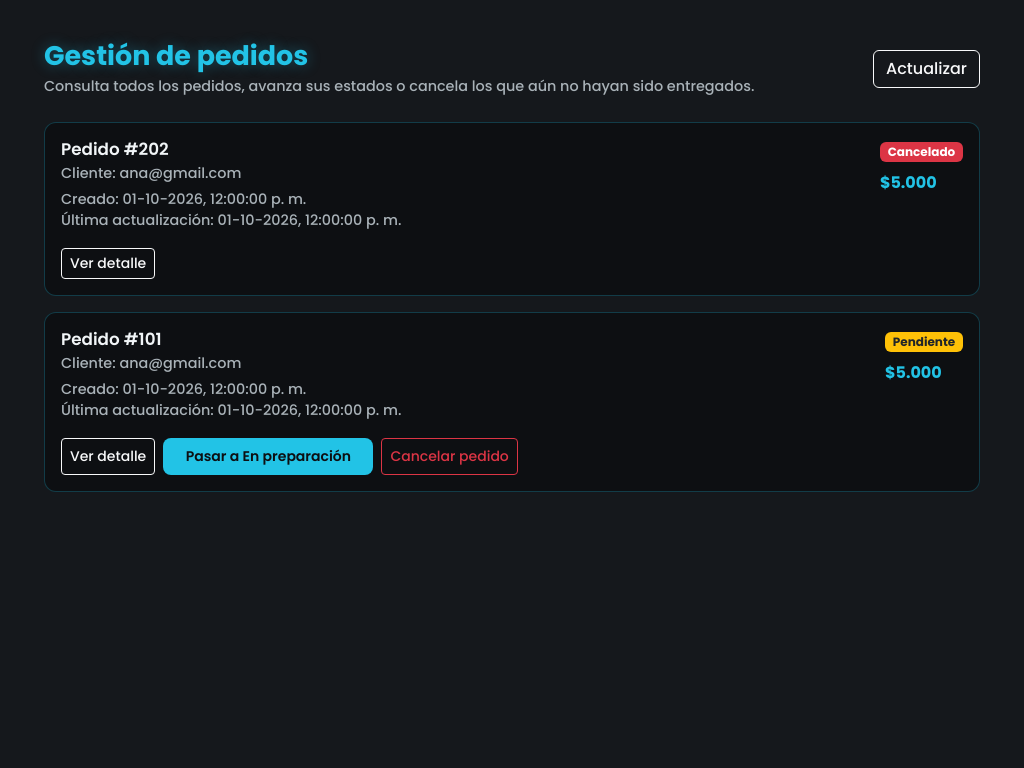
Test: PanelPedidos › ordena los pedidos y permite abrir y ocultar el detalle
The image size is (1024, 768).
Expected: the heading "Pedido #202" is shown, [61,137,169,161]
Expected: the heading "Pedido #101" is shown, [61,327,162,351]
Click the 1st button "Ver detalle".
click(108, 263)  # box [61,248,155,279]
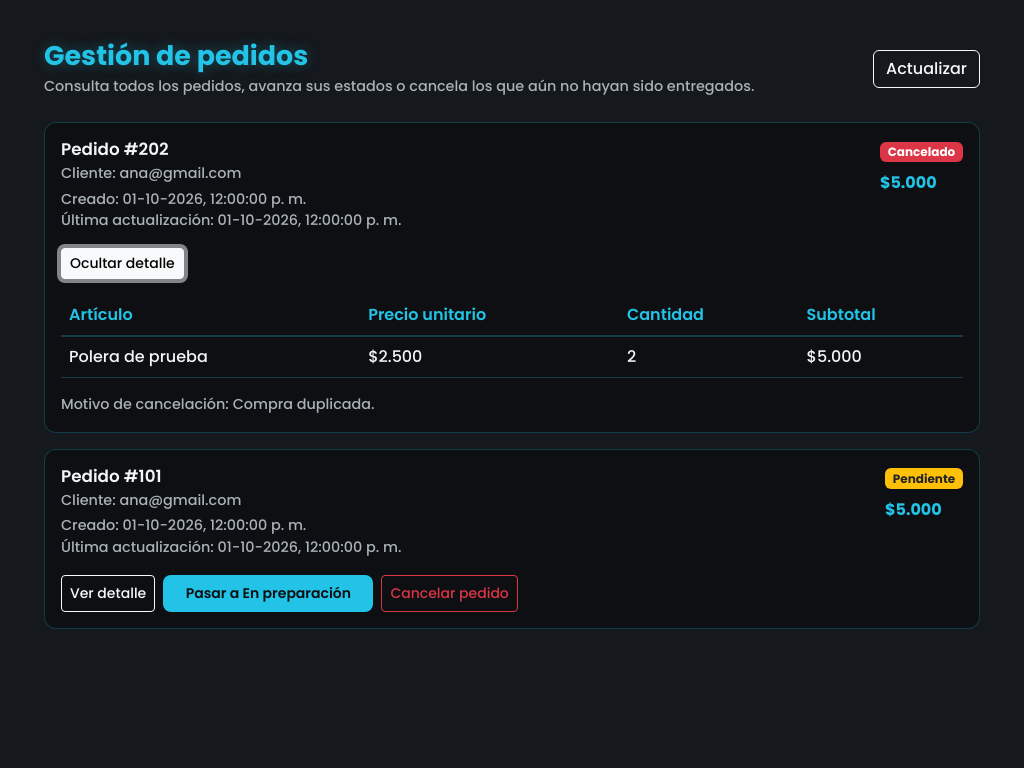
Result: the button "Ocultar detalle" is expanded
Result: the number of rows is 2 at [61,295,963,336]; [61,336,963,377]
Result: the text "Motivo de cancelación: Compra duplicada." is shown at [61,394,374,414]
Click the button "Ocultar detalle".
click(122, 263)  # box [61,248,184,279]
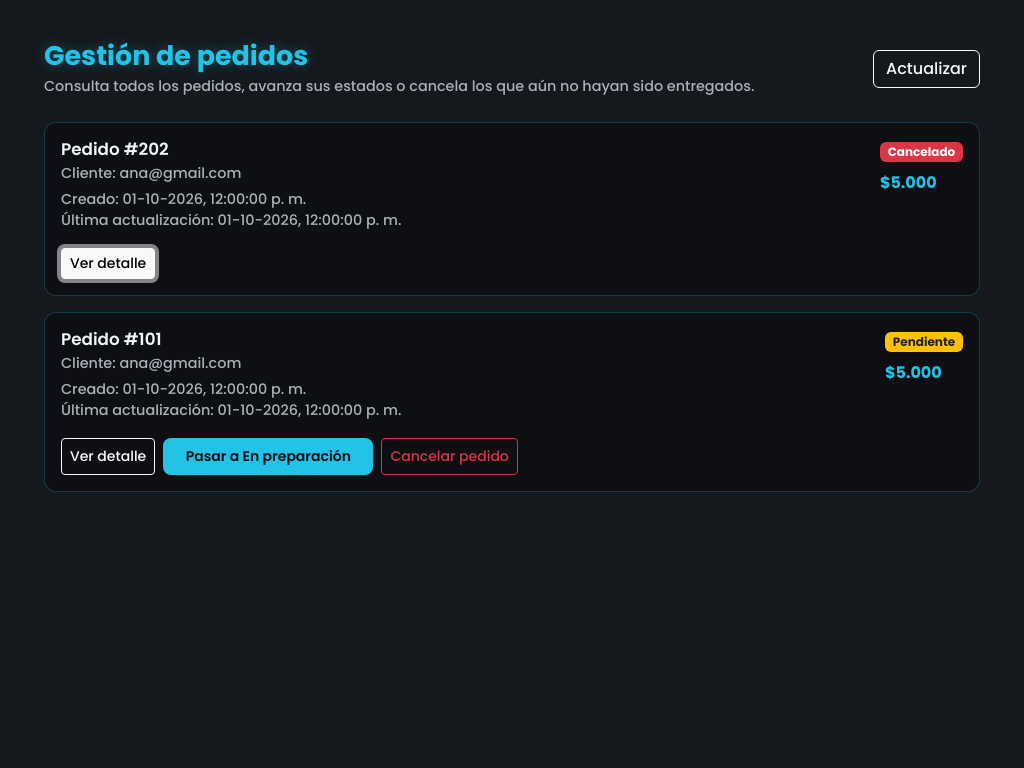
Result: the table is gone
Result: the 1st button "Ver detalle" is collapsed at [61,248,155,279]
